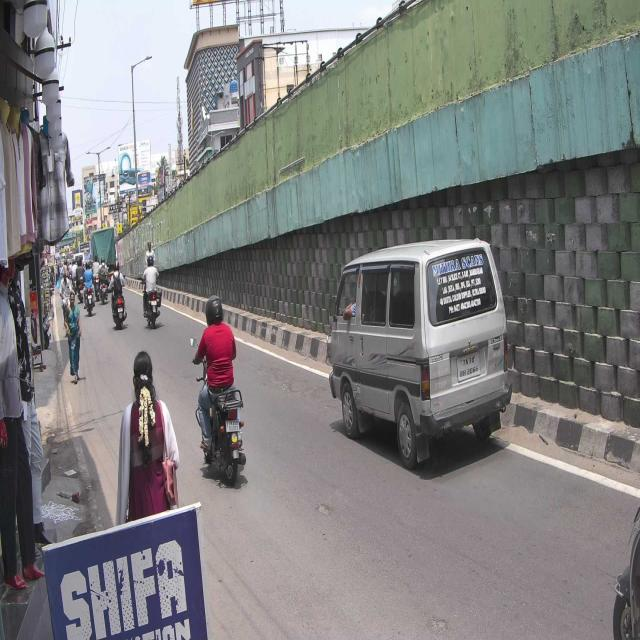single_rider: (191, 294, 247, 486)
